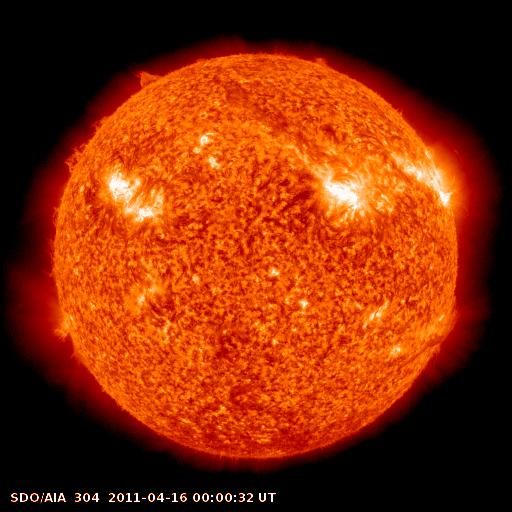prominence: (57, 108, 113, 177), (426, 290, 465, 359), (46, 312, 90, 371), (41, 203, 64, 285), (124, 60, 173, 98), (308, 45, 335, 78)
